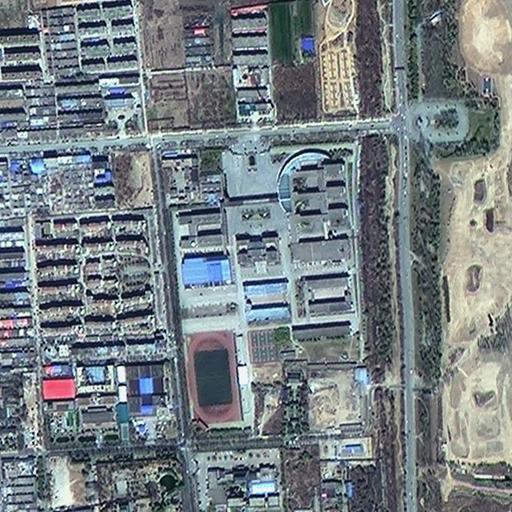school: (158, 136, 359, 432)
